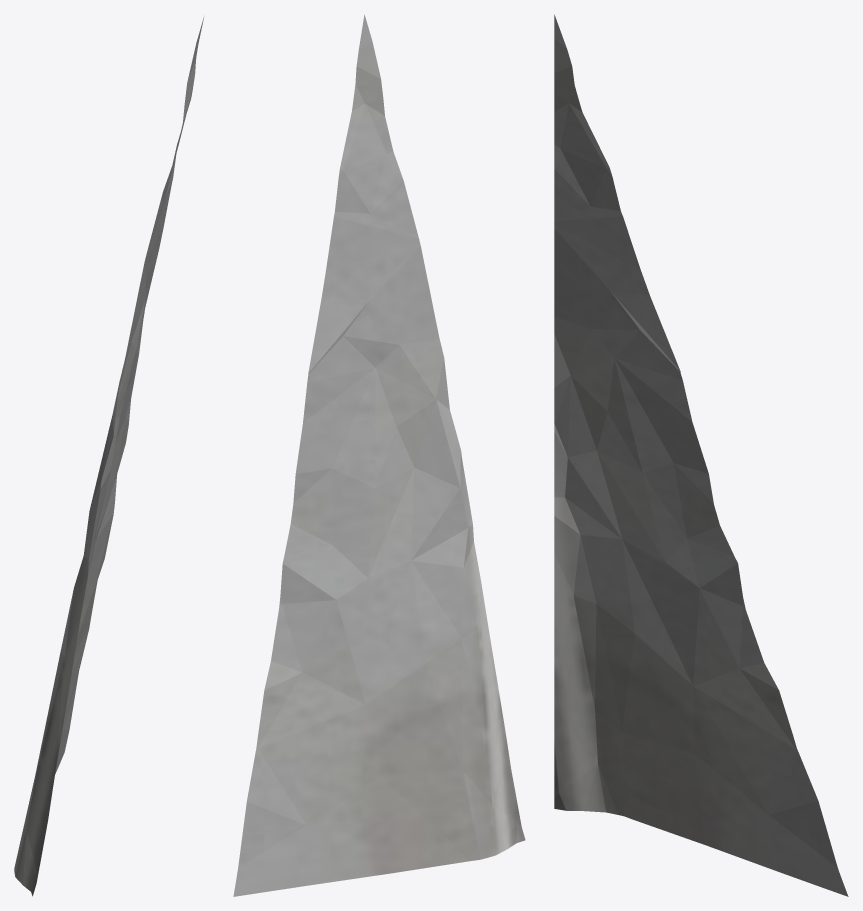
The picture shows the model from 3 angles, left to right: view 1: azimuth 30°, elevation 25°; view 2: azimuth 150°, elevation 25°; view 3: azimuth 270°, elevation 25°; orthographic projection. The views are drawn at different scales.
Bounding box in the file's own units: 0.1358 × 0.6341 × 0.1915.
Materials: 1 (1 with a texture image).
